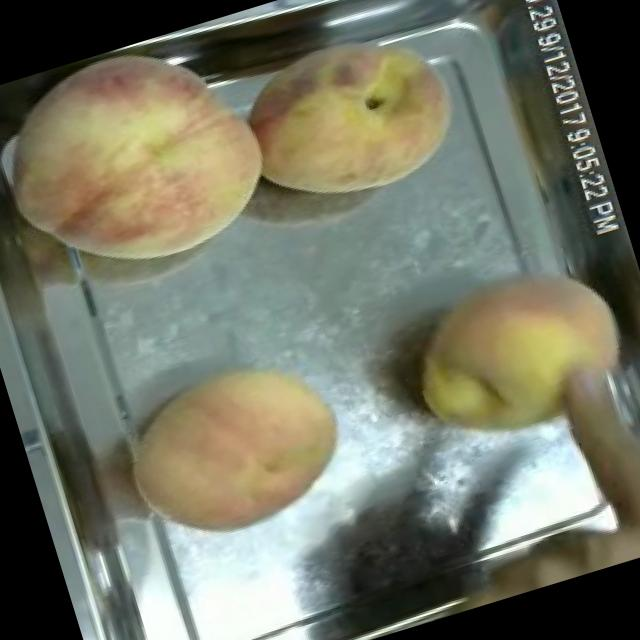Fruit: (0, 12, 300, 310), (381, 231, 640, 479), (102, 330, 370, 566), (218, 0, 486, 232), (483, 481, 640, 600)
